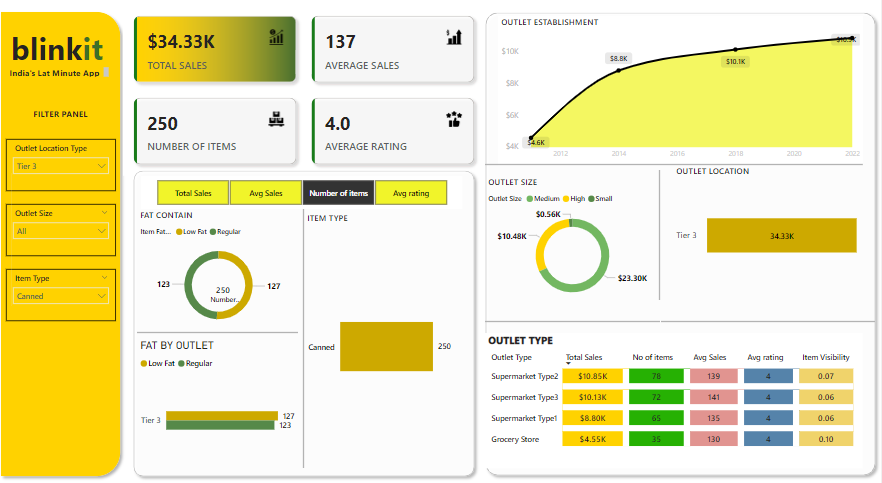

The dashboard page shown, as its layout file describes it:
{"tool":"powerbi","page":{"name":"Page 1","canvas":[1400,800],"ordinal":0},"visuals":[{"type":"shape","box":[4.7,26.8,206.3,749.6],"z":0},{"type":"textbox","box":[420.5,102.4,204.7,80.3],"z":1000},{"type":"textbox","box":[253.5,645.7,204.7,130.7],"z":2000},{"type":"textbox","box":[420.5,489.8,204.7,155.9],"z":3000},{"type":"textbox","box":[15.7,55.1,173.2,75.6],"z":4000},{"type":"textbox","box":[15.7,118.1,173.2,25.2],"z":5000},{"type":"cardVisual","fields":{"Data":["BlinkIT Grocery Data.Total Sales","BlinkIT Grocery Data.Avg Sales","BlinkIT Grocery Data.Number of items","BlinkIT Grocery Data.Avg rating"]},"box":[206.3,25.2,570.1,269.3],"z":6000},{"type":"shape","box":[214.2,277.2,554.3,499.2],"z":7000},{"type":"donutChart","title":"FAT CONTAIN","fields":{"Y":["BlinkIT Grocery Data.Number of items"],"Category":["BlinkIT Grocery Data.Item Fat Content"]},"box":[228.3,346.5,256.7,195.3],"z":8000},{"type":"slicer","fields":{"Values":["Metrix.Metrix"]},"box":[234.6,294.5,505.5,52],"z":9000},{"type":"cardVisual","fields":{"Data":["BlinkIT Grocery Data.Number of items"]},"box":[321.3,447.2,85,53.5],"z":10000},{"type":"clusteredBarChart","title":"FAT BY OUTLET","fields":{"Y":["BlinkIT Grocery Data.Number of items"],"Category":["BlinkIT Grocery Data.Outlet Location Type"],"Series":["BlinkIT Grocery Data.Item Fat Content"]},"box":[228.3,551.2,253.5,203.1],"z":11000},{"type":"shape","box":[228.3,518.1,253.5,45.7],"z":12000},{"type":"shape","box":[363.8,346.5,253.5,407.9],"z":13000},{"type":"barChart","title":"ITEM TYPE","fields":{"Y":["BlinkIT Grocery Data.Number of items"],"Category":["BlinkIT Grocery Data.Item Type"]},"box":[491.3,351.2,236.2,403.1],"z":14000},{"type":"shape","box":[768.5,28.3,631.5,746.5],"z":15000},{"type":"lineChart","title":"OUTLET ESTABLISHMENT","fields":{"Y":["BlinkIT Grocery Data.Total Sales"],"Category":["BlinkIT Grocery Data.Outlet Establishment Year"]},"box":[796.9,42.5,574.8,234.6],"z":16000},{"type":"shape","box":[776.4,253.5,595.3,45.7],"z":17000},{"type":"donutChart","title":"OUTLET SIZE","fields":{"Y":["BlinkIT Grocery Data.Total Sales"],"Category":["BlinkIT Grocery Data.Outlet Size"]},"box":[776.4,294.5,275.6,206.3],"z":18000},{"type":"shape","box":[924.4,285,253.5,204.7],"z":19000},{"type":"funnel","title":"OUTLET LOCATION","fields":{"Category":["BlinkIT Grocery Data.Outlet Location Type"],"Y":["Sum(BlinkIT Grocery Data.Sales)"]},"box":[1072.4,277.2,299.2,204.7],"z":20000},{"type":"shape","box":[776.4,500.8,275.6,45.7],"z":21000},{"type":"shape","box":[1053.5,503.9,337,45.7],"z":22000},{"type":"pivotTable","title":"OUTLET TYPE","fields":{"Rows":["BlinkIT Grocery Data.Outlet Type"],"Values":["BlinkIT Grocery Data.Total Sales","BlinkIT Grocery Data.Number of items","BlinkIT Grocery Data.Avg Sales","BlinkIT Grocery Data.Avg rating","Avg(BlinkIT Grocery Data.Item Visibility)"]},"box":[776.4,541.7,595.3,212.6],"z":23000},{"type":"slicer","fields":{"Values":["BlinkIT Grocery Data.Outlet Location Type"]},"box":[22,236.2,173.2,81.9],"z":24000},{"type":"slicer","fields":{"Values":["BlinkIT Grocery Data.Item Type"]},"box":[22,440.9,173.2,81.9],"z":25000},{"type":"slicer","fields":{"Values":["BlinkIT Grocery Data.Outlet Size"]},"box":[22,338.6,173.2,81.9],"z":26000},{"type":"textbox","box":[15.7,182.7,184.3,48.8],"z":26001}]}

Visuals, with their boxes on the page's 1400x800 design canvas (x1, y1, x2, y2). These are canvas units, not pixel positions in the 882x483 screenshot, which may show the page scaled, cropped or inside an application window:
shape: Rect(5, 27, 211, 776)
textbox: Rect(420, 102, 625, 183)
textbox: Rect(254, 646, 458, 776)
textbox: Rect(420, 490, 625, 646)
textbox: Rect(16, 55, 189, 131)
textbox: Rect(16, 118, 189, 143)
cardVisual - BlinkIT Grocery Data.Total Sales x BlinkIT Grocery Data.Avg Sales: Rect(206, 25, 776, 294)
shape: Rect(214, 277, 768, 776)
"FAT CONTAIN" donutChart: Rect(228, 346, 485, 542)
slicer - Metrix.Metrix: Rect(235, 294, 740, 346)
cardVisual - BlinkIT Grocery Data.Number of items: Rect(321, 447, 406, 501)
"FAT BY OUTLET" clusteredBarChart: Rect(228, 551, 482, 754)
shape: Rect(228, 518, 482, 564)
shape: Rect(364, 346, 617, 754)
"ITEM TYPE" barChart: Rect(491, 351, 728, 754)
shape: Rect(768, 28, 1400, 775)
"OUTLET ESTABLISHMENT" lineChart: Rect(797, 42, 1372, 277)
shape: Rect(776, 254, 1372, 299)
"OUTLET SIZE" donutChart: Rect(776, 294, 1052, 501)
shape: Rect(924, 285, 1178, 490)
"OUTLET LOCATION" funnel: Rect(1072, 277, 1372, 482)
shape: Rect(776, 501, 1052, 546)
shape: Rect(1054, 504, 1390, 550)
"OUTLET TYPE" pivotTable: Rect(776, 542, 1372, 754)
slicer - BlinkIT Grocery Data.Outlet Location Type: Rect(22, 236, 195, 318)
slicer - BlinkIT Grocery Data.Item Type: Rect(22, 441, 195, 523)
slicer - BlinkIT Grocery Data.Outlet Size: Rect(22, 339, 195, 420)
textbox: Rect(16, 183, 200, 232)
